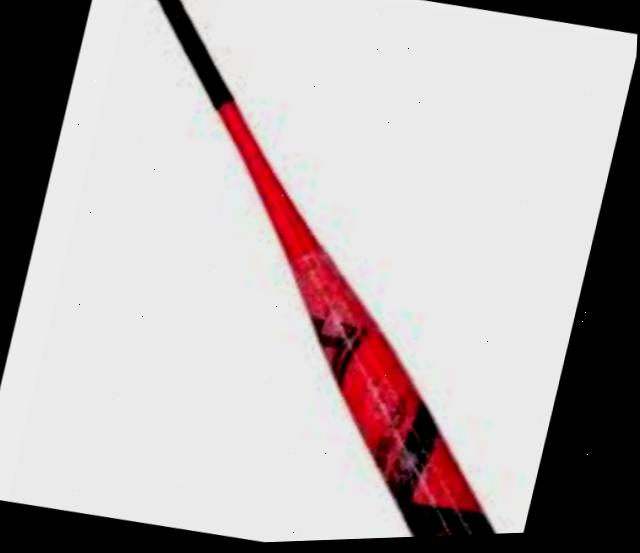baseball bat: (146, 0, 495, 540)
